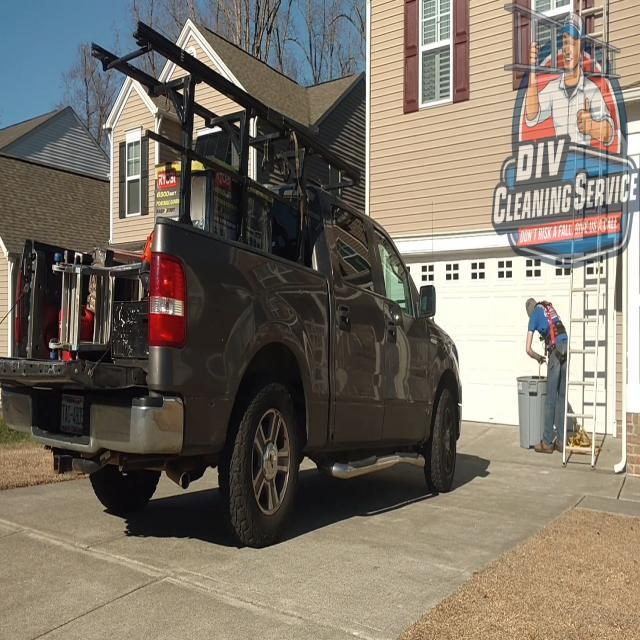belt: (534, 296, 572, 366)
